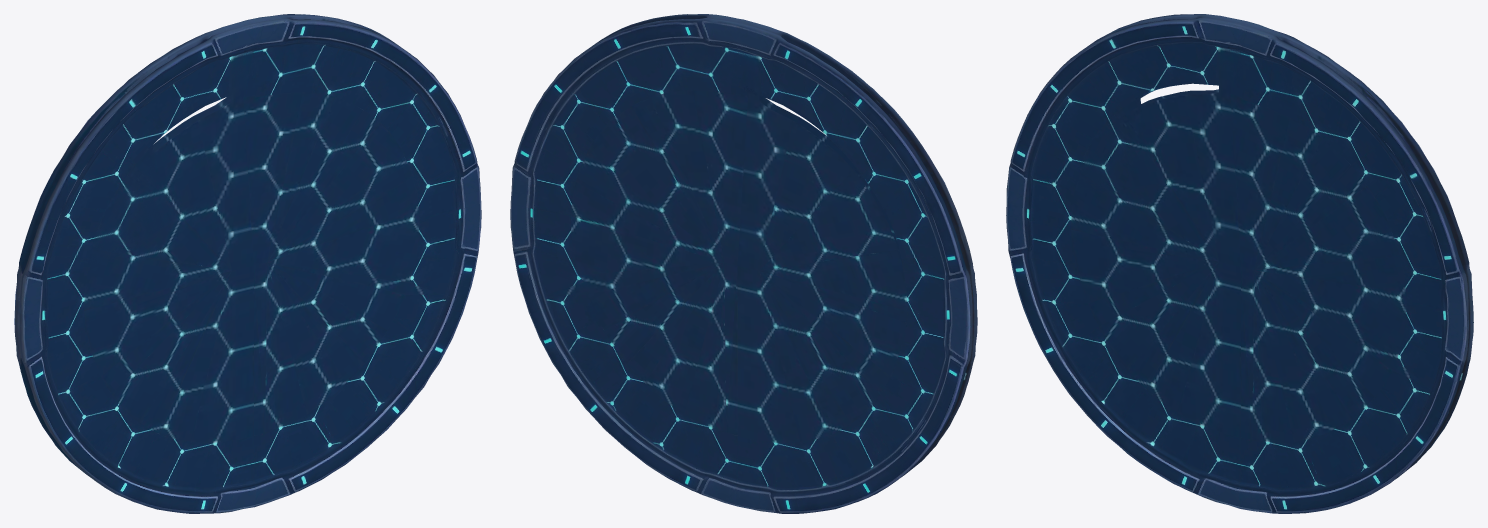
File: ground.glb
3 renders of one model, left to right at view 1: azimuth 30°, elevation 25°; view 2: azimuth 150°, elevation 25°; view 3: azimuth 330°, elevation 25°, orthographic.
Bounding box in the file's own units: 1.91 × 1.91 × 0.0821.
1 material, 1 textured.
